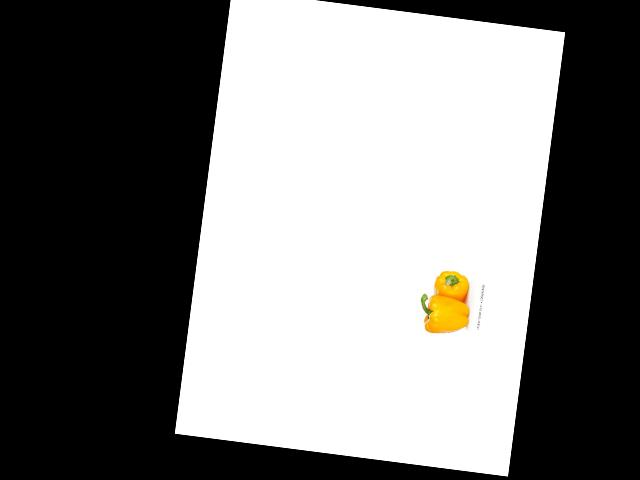bell_pepper: (430, 268, 472, 304)
